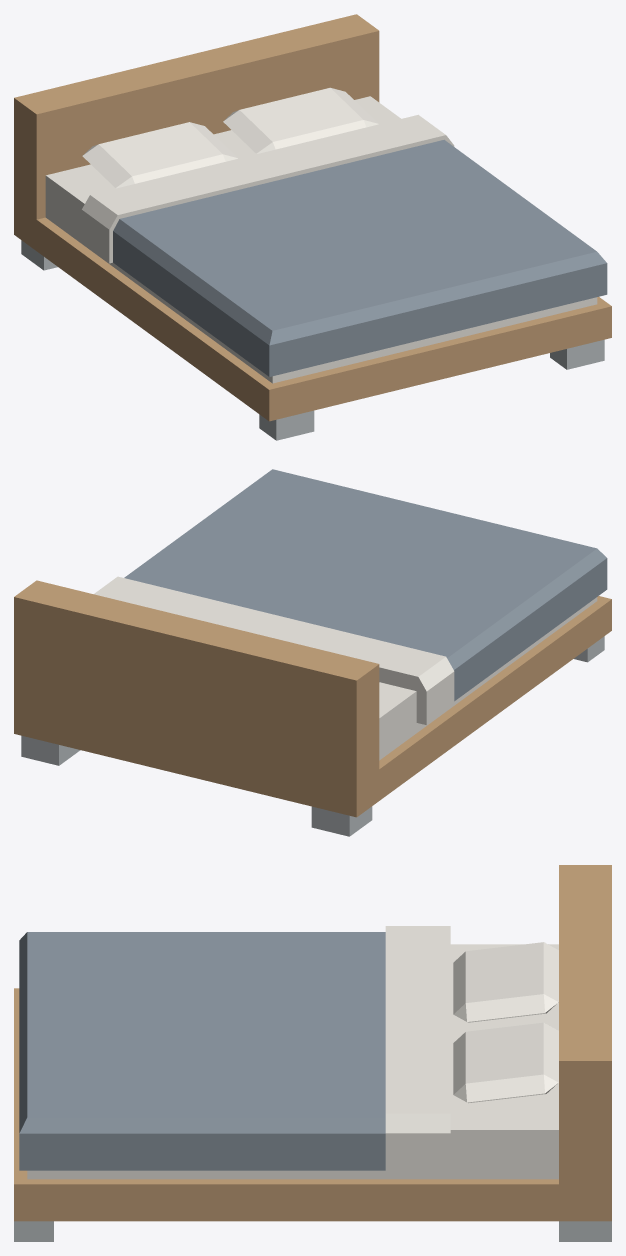
File: bed-queen.glb
3 renders of one model, top to bottom at view 1: azimuth 30°, elevation 25°; view 2: azimuth 150°, elevation 25°; view 3: azimuth 270°, elevation 25°, orthographic. The views are drawn at different scales.
Parts seen in each view (by area): view 1: bed-queen; view 2: bed-queen; view 3: bed-queen.
Boxes of the visible parts, bbox=[...] form: bed-queen: bbox=[14, 14, 611, 440]; bed-queen: bbox=[14, 469, 611, 836]; bed-queen: bbox=[14, 865, 611, 1241].
Size of the model in its own units: 1.6 by 0.7 by 2.05.
